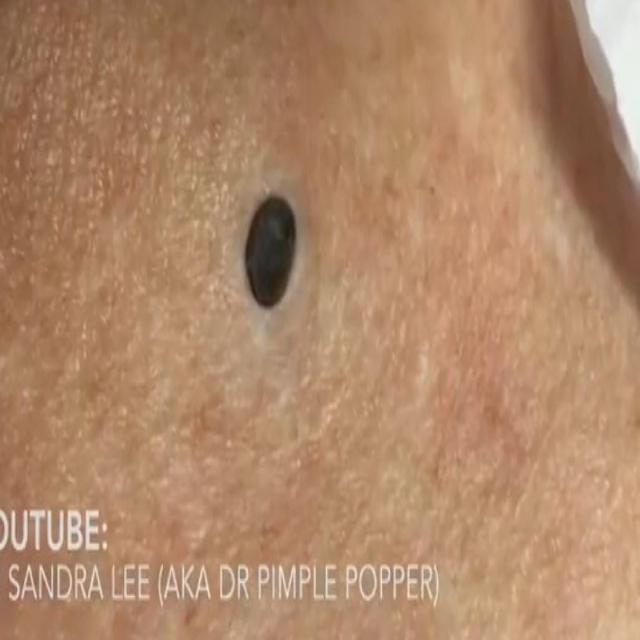dark spot: (212, 152, 317, 362)
